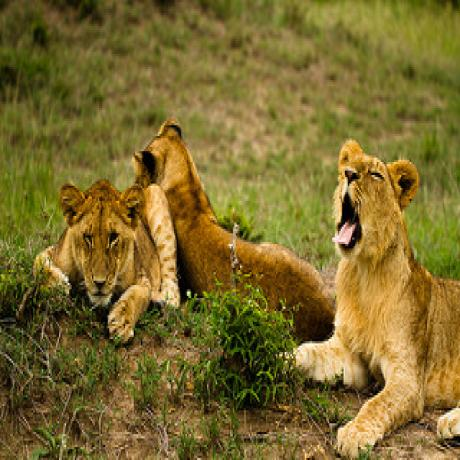Lion: (308, 137, 460, 457), (132, 111, 327, 324), (40, 177, 166, 332)
